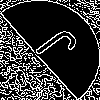J: (25, 25, 81, 73)
